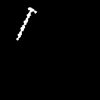half_double_crochet: (17, 8, 35, 39)
